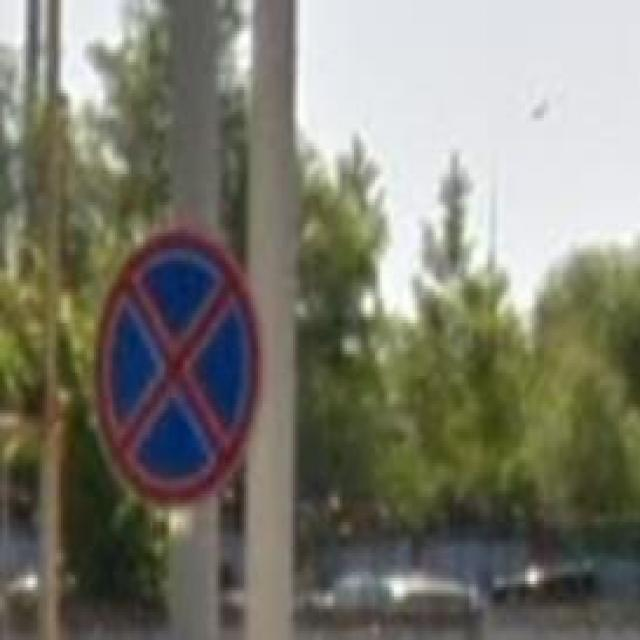no_waiting: (92, 227, 260, 503)
